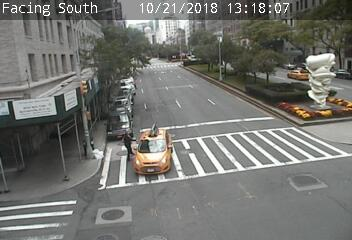car: (139, 129, 170, 170)
